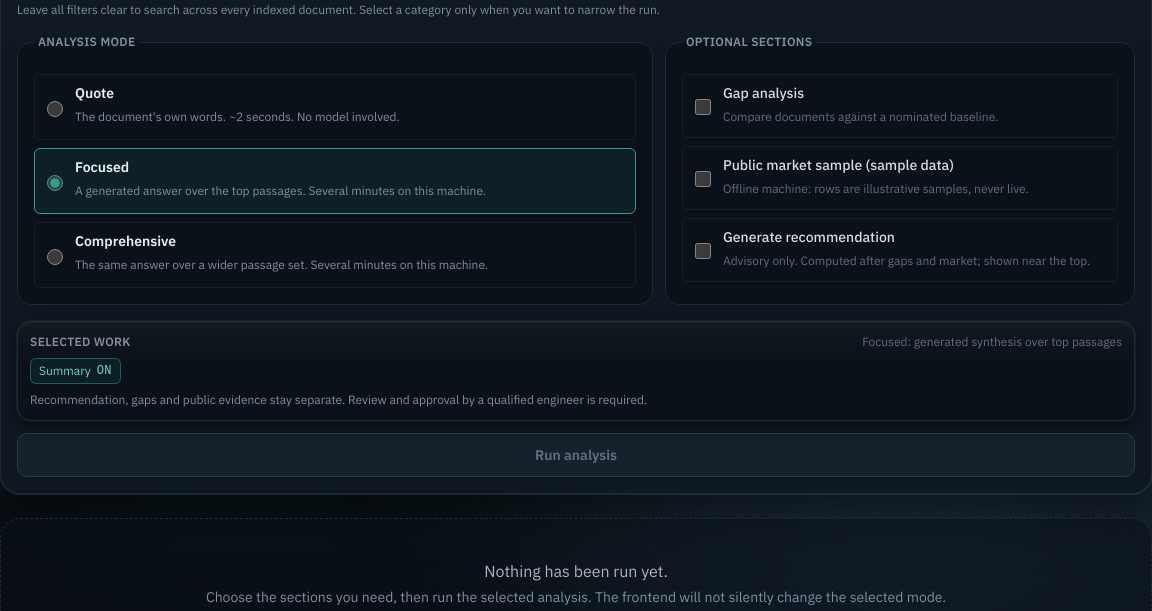
it: AnalysisModeScreen: rules that must hold on screen › RULE 2: 'low' and 'medium' are passed through unchanged
(page scrolled)
Click the checkbox labelled "Generate recommendation".
click(703, 251)  # box [695,229,711,273]
(page scrolled)
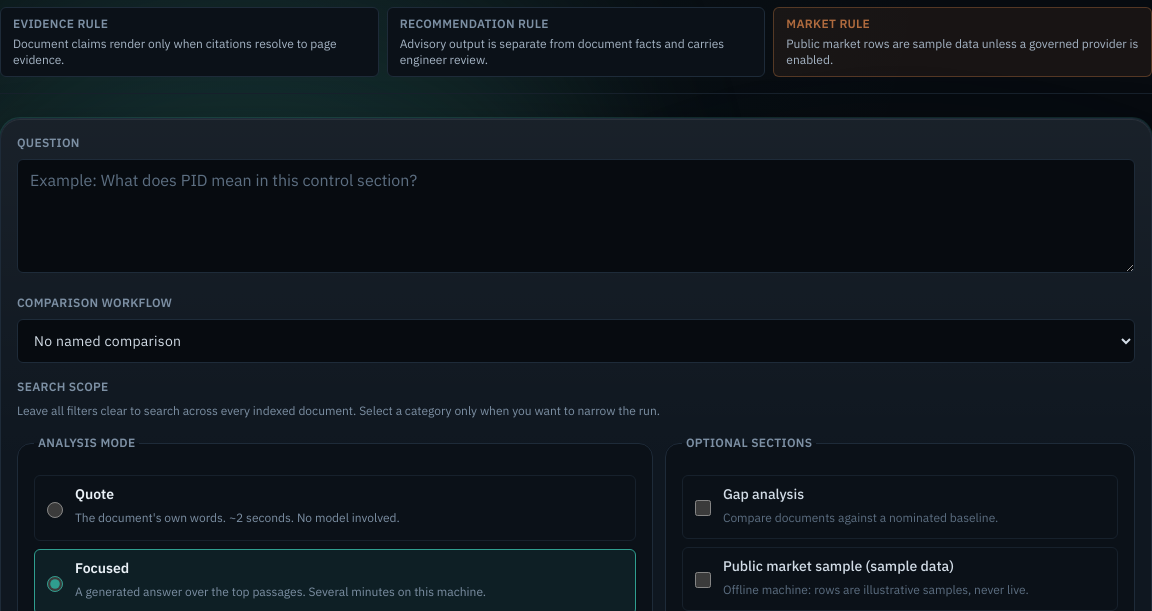
Type "what is the pressure floor" into the text box labelled "Question".
click(576, 216); type("what is the pressure floor")  # box [17,159,1135,273]
(page scrolled)
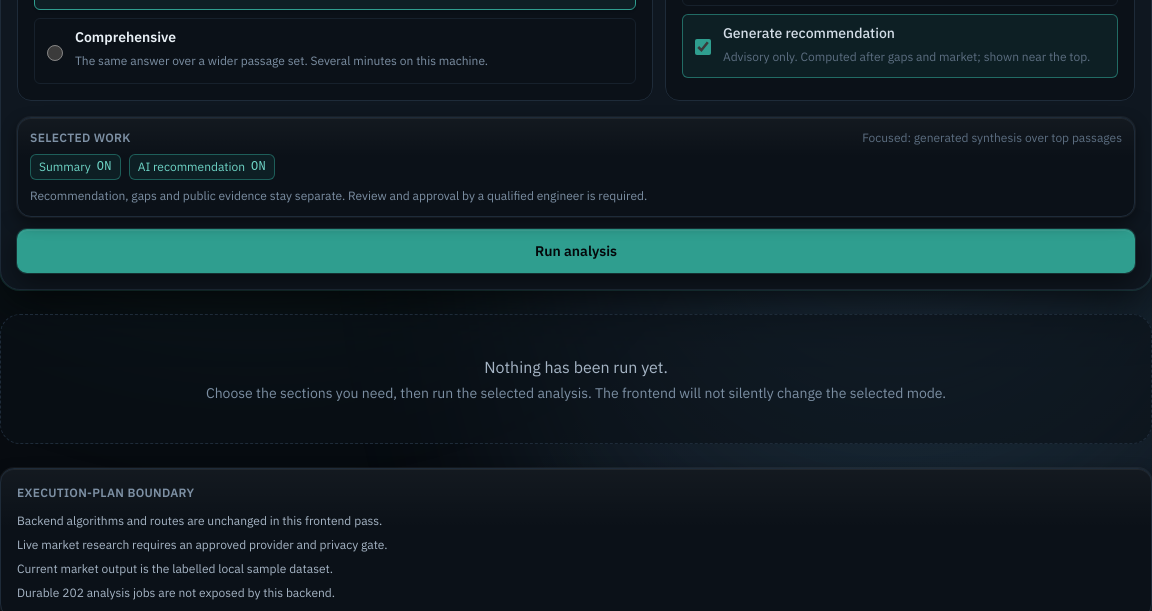
Click the button "Run analysis".
click(576, 251)  # box [17,229,1135,273]
(page scrolled)
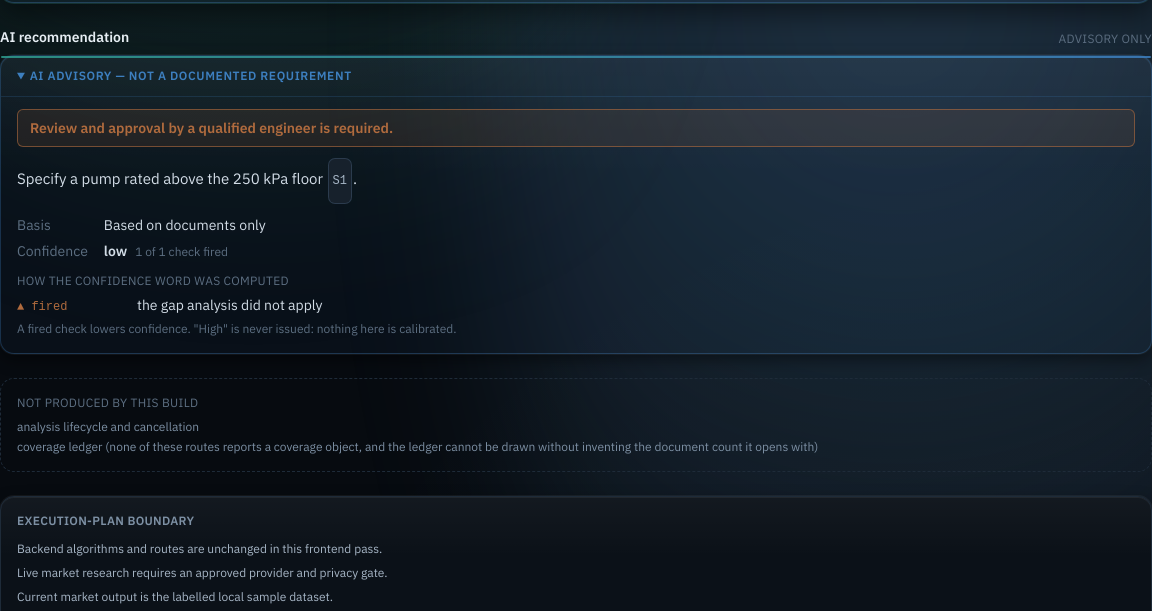
Check: the text "low" is shown, box [104,242,127,260]
